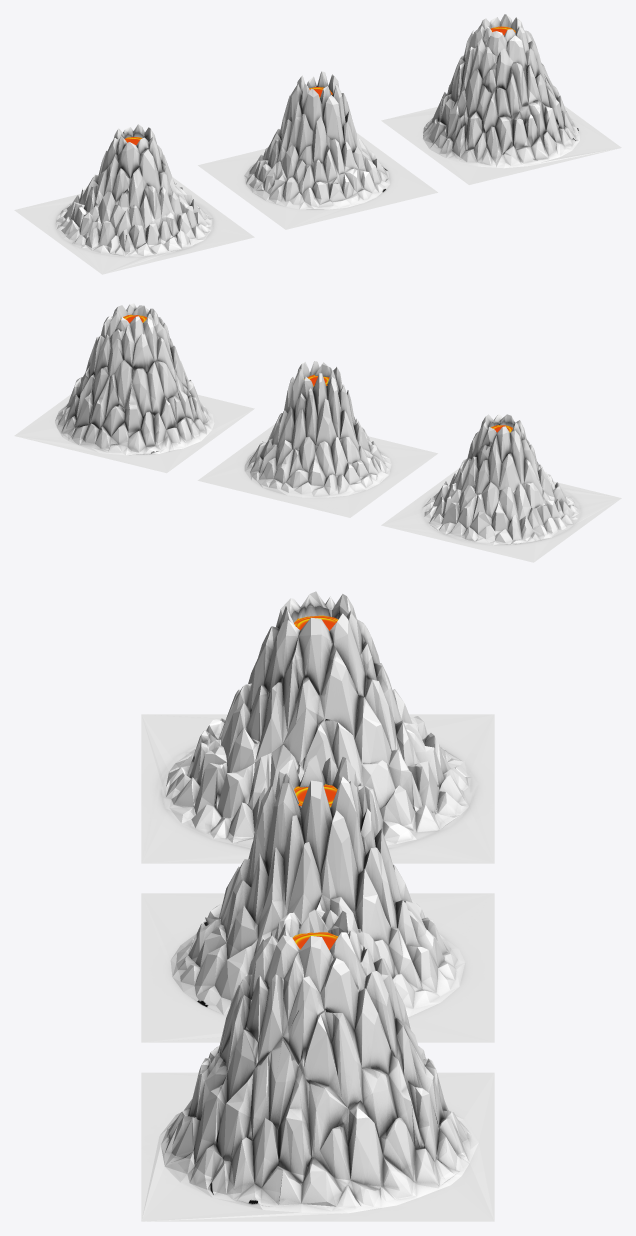
Rendered from Volcanos1.fbx.
3 renders of one model, top to bottom at view 1: azimuth 30°, elevation 25°; view 2: azimuth 150°, elevation 25°; view 3: azimuth 270°, elevation 25°, orthographic. The views are drawn at different scales.
Parts seen in each view (by area): view 1: Volcano_1, Volcano_2, Volcano_3; view 2: Volcano_1, Volcano_2, Volcano_3; view 3: Volcano_1, Volcano_3, Volcano_2.
Part boxes in pixels (box(x1,y1,x2,y2)): Volcano_1: box(381, 14, 621, 184); Volcano_2: box(198, 71, 437, 229); Volcano_3: box(14, 124, 254, 274); Volcano_1: box(14, 303, 254, 473); Volcano_2: box(197, 361, 437, 517); Volcano_3: box(381, 414, 621, 562); Volcano_1: box(141, 909, 494, 1221); Volcano_3: box(141, 591, 494, 863); Volcano_2: box(141, 755, 494, 1042).
Size of the model in its own units: 3400 by 707 by 1000.
4 materials, 4 textured.
